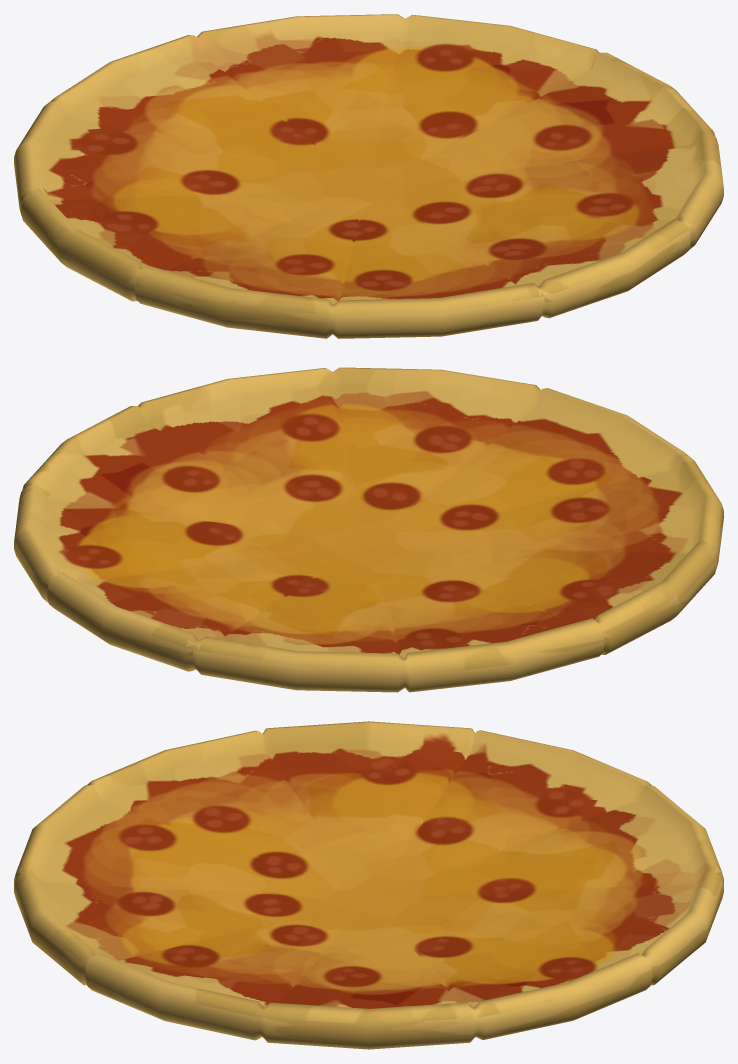
File: Pizza_asset.fbx
3 views of the same model, one above another, from view 1: azimuth 30°, elevation 25°; view 2: azimuth 150°, elevation 25°; view 3: azimuth 270°, elevation 25° (orthographic).
Parts seen in each view (by area): view 1: pCylinder1; view 2: pCylinder1; view 3: pCylinder1.
Part boxes in pixels (<box>): pCylinder1: <box>14,14,723,338</box>; pCylinder1: <box>14,367,723,692</box>; pCylinder1: <box>14,721,723,1049</box>.
Bounding box in the file's own units: 3.05 × 0.1825 × 3.03.
